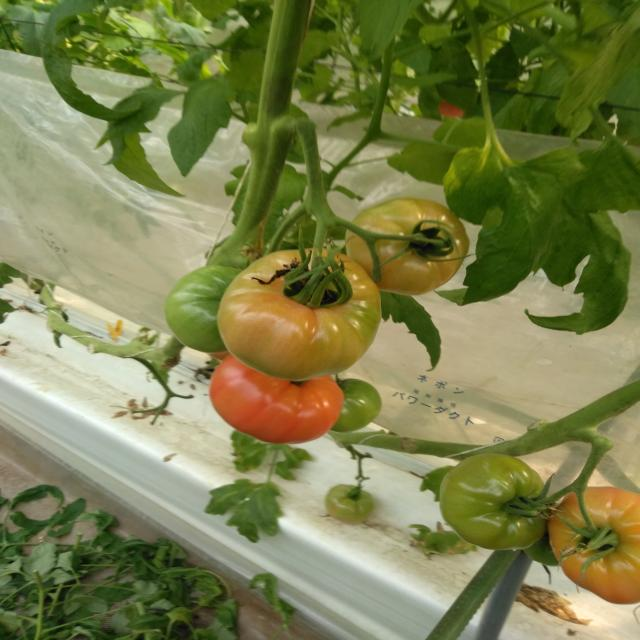n-half-riped: (216, 248, 382, 380), (344, 198, 470, 296), (547, 486, 639, 604)
n-riped: (210, 354, 344, 446)
n-unriped: (440, 453, 549, 550), (164, 265, 243, 353), (328, 378, 383, 433), (326, 484, 374, 524), (524, 524, 560, 566)
